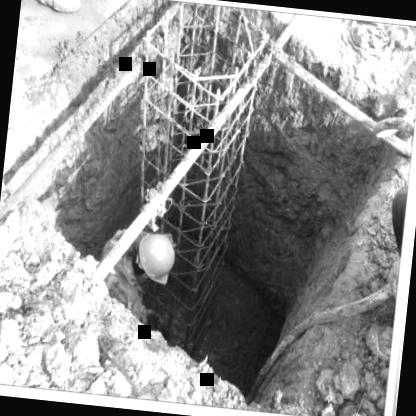helmet: (122, 226, 180, 291)
